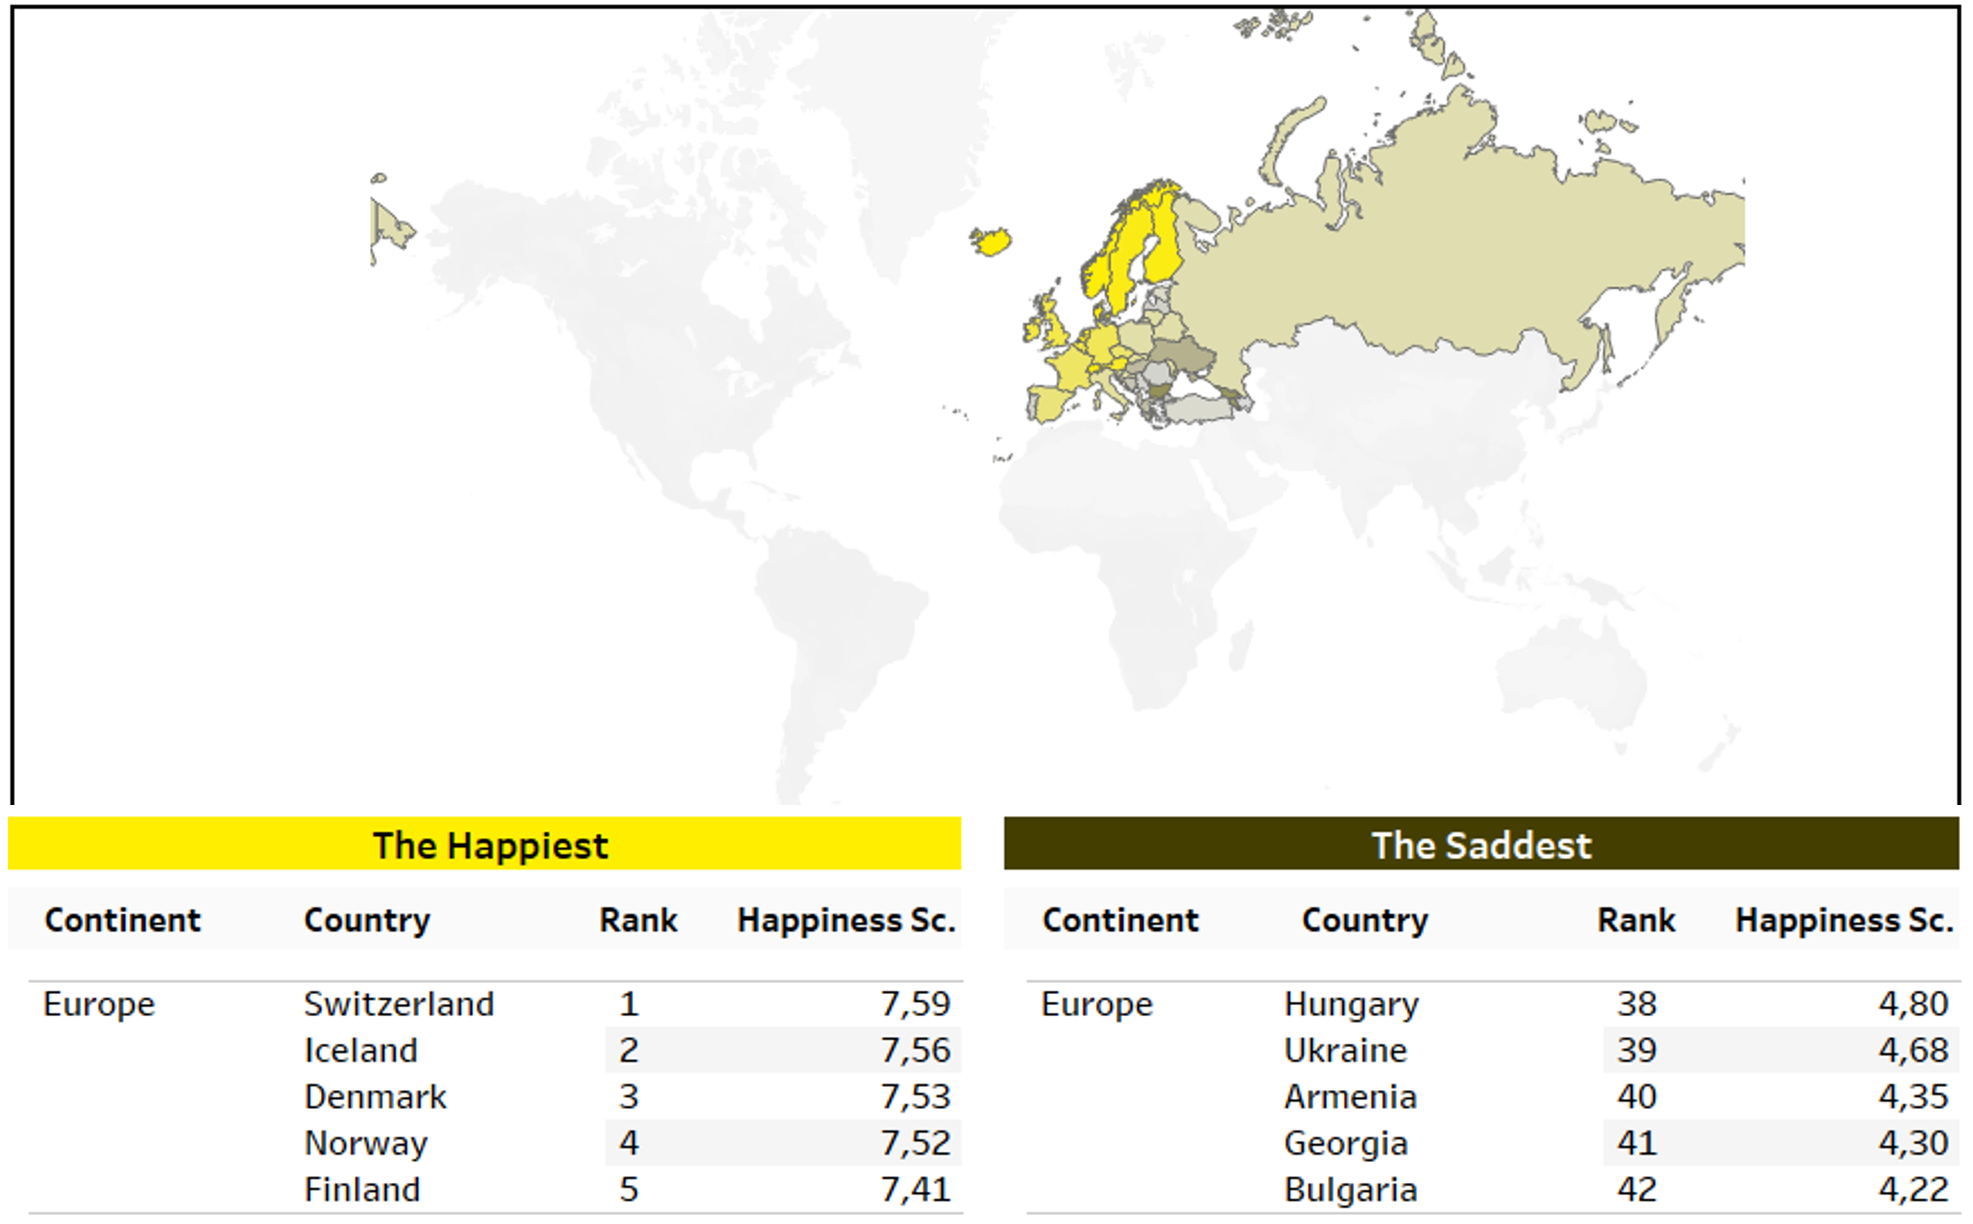

What the dashboard file says about the page in this screenshot:
{"tool":"tableau","page":{"name":"Dashboard 1","canvas":[1720,860],"ordinal":0},"visuals":[{"type":"blank","box":[1175,7,308,32]},{"type":"blank","box":[1483,7,229,106]},{"type":"image","param":"Image/Smile.png","box":[12,12,141.2,109]},{"type":"text","box":[153.2,12,640.8,46]},{"type":"worksheet","title":"Selected Year","mark":"Automatic","box":[794,12,201,46]},{"type":"blank","box":[995,12,33,46]},{"type":"blank","box":[1028,12,264.5,109]},{"type":"text","box":[1292.5,12,264.5,92]},{"type":"blank","box":[1557,12,151,109]},{"type":"dashboard-object","box":[1578,29,72,69]},{"type":"text","box":[1175,39,308,32]},{"type":"text","box":[153.2,58,874.8,63]},{"type":"parameter","param":"[Parameters].[Parametro 2]","box":[1175,71,308,180]},{"type":"text","box":[1483,113,229,31]},{"type":"worksheet","title":"World Happiness Rank (Map)","mark":"Multipolygon","box":[12,121,983,524]},{"type":"text","box":[995,121,323,32]},{"type":"text","box":[1319,121,389,32]},{"type":"parameter","param":"[Parameters].[Parametro 1]","box":[1483,144,229,107]},{"type":"worksheet","title":"Global Happiness Score per Continent","mark":"Circle","rows":["Happiness Rank per Year (copia)_801922231594545152","Happiness Rank per Year (copia)_801922231594545152"],"box":[995,153,323,415]},{"type":"worksheet","title":"Happiness Score % Change (5y)","mark":"Automatic","rows":["Country"],"cols":["Calculation_801922231886446605"],"box":[1319,153,389,656.8]},{"type":"legend","title":"Global Happiness Score per Continent","param":"[federated.0av59c308uzitr1gjwh8u0oohdn7].[none:Continent:nk]","box":[995,568,323,29]},{"type":"text","box":[12,645,443,32]},{"type":"text","box":[455,645,443,32]},{"type":"blank","box":[922.7,645,126,33.5]},{"type":"worksheet","title":"Pie Chart","mark":"Pie","cols":["Calculation_927741547938185227","Calculation_927741547938185227"],"box":[1056.7,645,262.3,203]},{"type":"text","box":[12,677,443,32]},{"type":"text","box":[455,677,443,32]},{"type":"text","box":[922.7,678.5,126,46]},{"type":"worksheet","title":"Rank Happiness per Continent (Top)","mark":"Text","rows":["Continent","Country"],"box":[12,709,443,139]},{"type":"worksheet","title":"Rank Happiness per Continent (Worst)","mark":"Text","rows":["Continent","Country"],"box":[455,709,443,139]},{"type":"worksheet","title":"Pie Chart labels","mark":"Square","rows":["Calculation_927741547845664770"],"box":[922.7,724.5,126,90]},{"type":"filter","title":"Happiness Score % Change (5y)","param":"[federated.0av59c308uzitr1gjwh8u0oohdn7].[none:Country:nk]","box":[1319,809.8,389,38]},{"type":"blank","box":[922.7,814.5,126,33.5]}]}

Visuals, with their boxes on the page's 1720x860 design canvas (x1, y1, x2, y2). These are canvas units, not pixel positions in the 1973x1224 screenshot, which may show the page scaled, cropped or inside an application window:
blank: x1=1175 y1=7 x2=1483 y2=39
blank: x1=1483 y1=7 x2=1712 y2=113
image: x1=12 y1=12 x2=153 y2=121
text: x1=153 y1=12 x2=794 y2=58
"Selected Year" worksheet: x1=794 y1=12 x2=995 y2=58
blank: x1=995 y1=12 x2=1028 y2=58
blank: x1=1028 y1=12 x2=1292 y2=121
text: x1=1292 y1=12 x2=1557 y2=104
blank: x1=1557 y1=12 x2=1708 y2=121
dashboard-object: x1=1578 y1=29 x2=1650 y2=98
text: x1=1175 y1=39 x2=1483 y2=71
text: x1=153 y1=58 x2=1028 y2=121
parameter: x1=1175 y1=71 x2=1483 y2=251
text: x1=1483 y1=113 x2=1712 y2=144
"World Happiness Rank (Map)" worksheet (Multipolygon marks): x1=12 y1=121 x2=995 y2=645
text: x1=995 y1=121 x2=1318 y2=153
text: x1=1319 y1=121 x2=1708 y2=153
parameter: x1=1483 y1=144 x2=1712 y2=251
"Global Happiness Score per Continent" worksheet (Circle marks): x1=995 y1=153 x2=1318 y2=568
"Happiness Score % Change (5y)" worksheet: x1=1319 y1=153 x2=1708 y2=810
"Global Happiness Score per Continent" legend: x1=995 y1=568 x2=1318 y2=597
text: x1=12 y1=645 x2=455 y2=677
text: x1=455 y1=645 x2=898 y2=677
blank: x1=923 y1=645 x2=1049 y2=678
"Pie Chart" worksheet (Pie marks): x1=1057 y1=645 x2=1319 y2=848
text: x1=12 y1=677 x2=455 y2=709
text: x1=455 y1=677 x2=898 y2=709
text: x1=923 y1=678 x2=1049 y2=724
"Rank Happiness per Continent (Top)" worksheet (Text marks): x1=12 y1=709 x2=455 y2=848
"Rank Happiness per Continent (Worst)" worksheet (Text marks): x1=455 y1=709 x2=898 y2=848
"Pie Chart labels" worksheet (Square marks): x1=923 y1=724 x2=1049 y2=814
"Happiness Score % Change (5y)" filter: x1=1319 y1=810 x2=1708 y2=848
blank: x1=923 y1=814 x2=1049 y2=848
